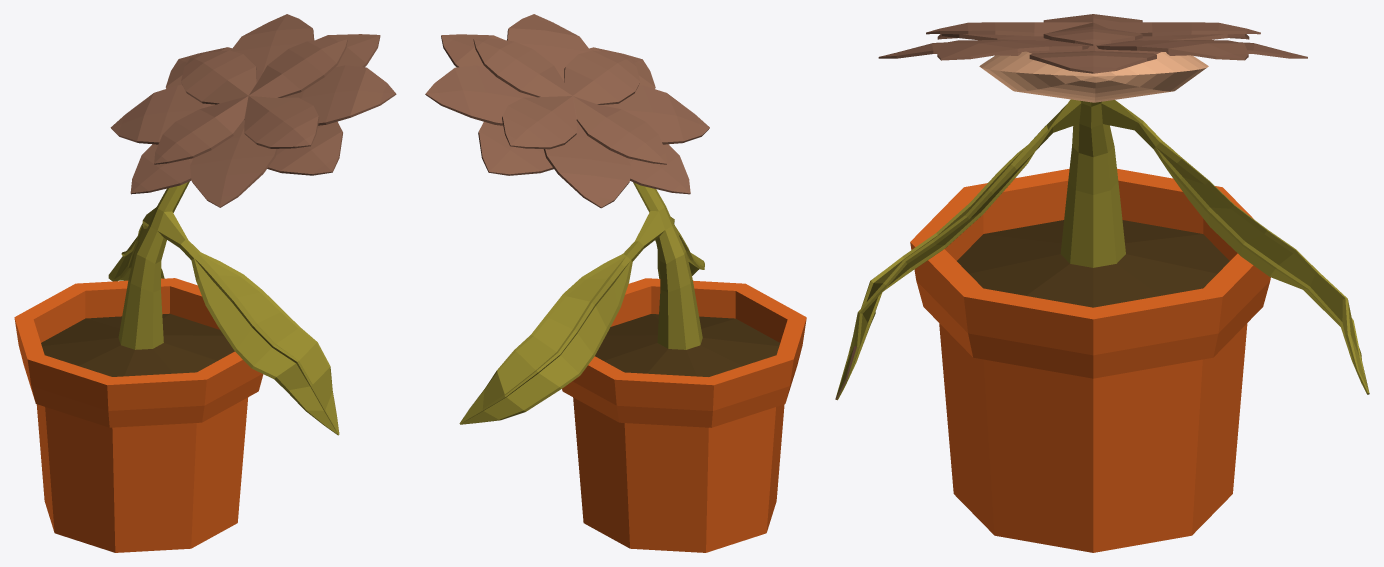
The model's file is Flower_Wilted.fbx.
3 views of the same model, side by side, from view 1: azimuth 30°, elevation 25°; view 2: azimuth 150°, elevation 25°; view 3: azimuth 270°, elevation 25° (orthographic). The views are drawn at different scales.
Visible parts, largest first — view 1: Flower Wilted; view 2: Flower Wilted; view 3: Flower Wilted.
Part boxes in pixels (box(x1,y1,x2,y2)): Flower Wilted: box(14, 14, 396, 552); Flower Wilted: box(425, 14, 806, 552); Flower Wilted: box(835, 14, 1369, 552).
Bounding box in the file's own units: 723 × 828 × 679.
